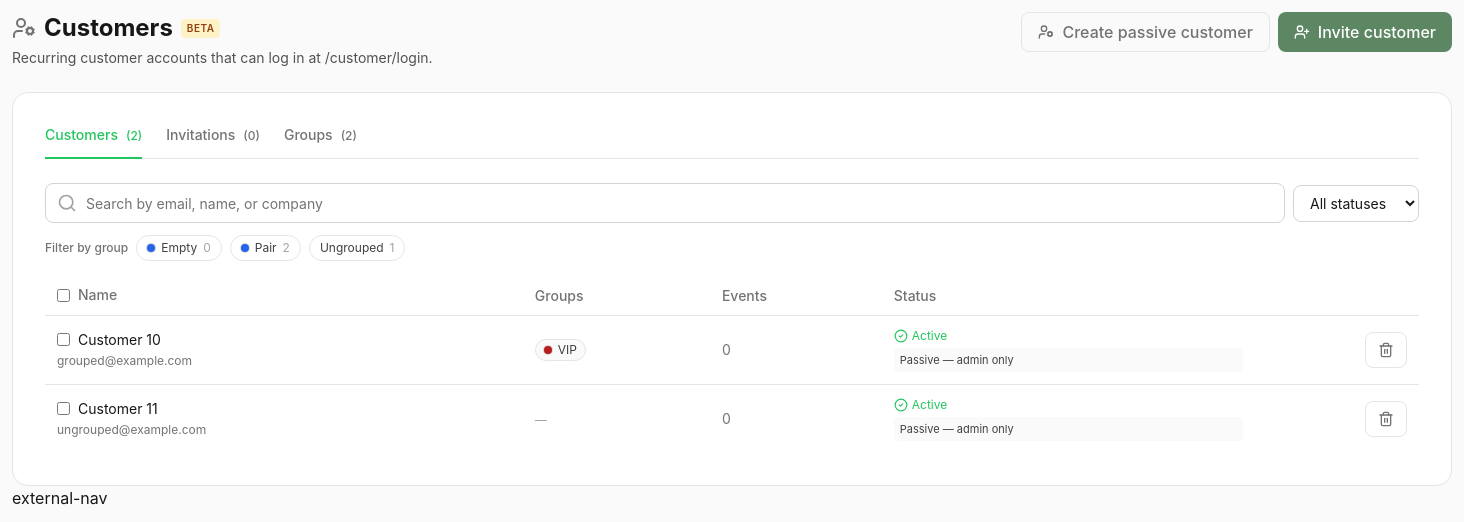
it: the catalogue tab › counts in the plural for anything but one, in both shipped locales
The image size is (1464, 522).
Expected: the text "grouped@example.com" is shown, [57,353,192,368]
Click the button "Groups(2)".
click(320, 142)  # box [284,125,357,159]
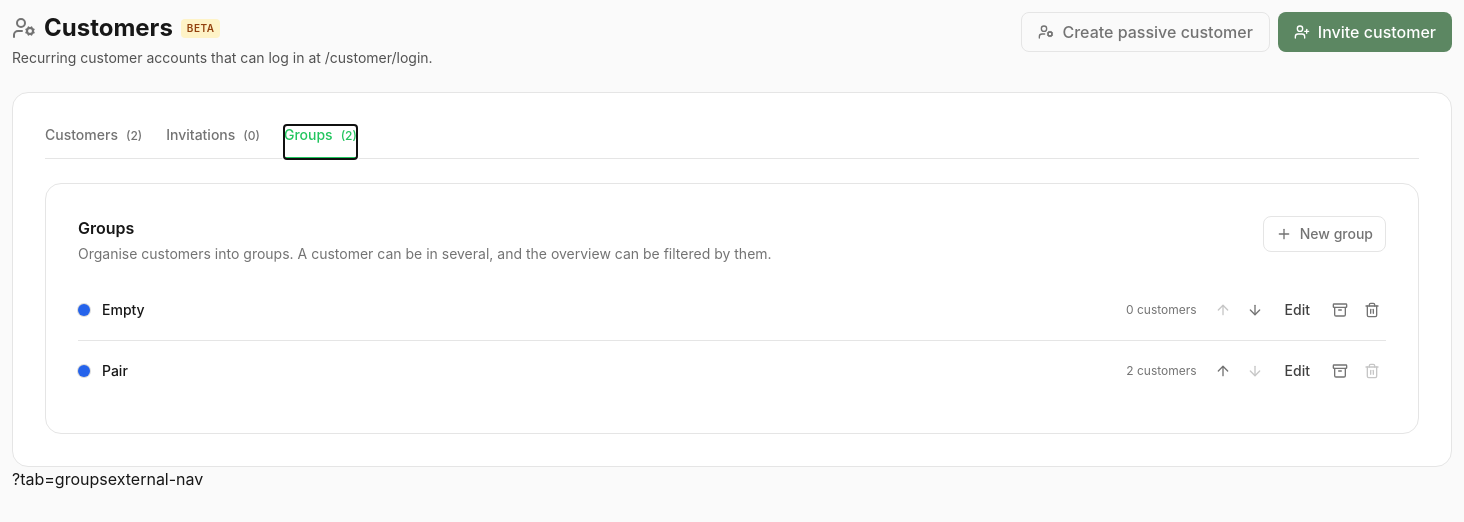
Result: the text "0 customers" is shown at [1126,302,1197,318]
Result: the text "2 customers" is shown at [1126,363,1197,379]
